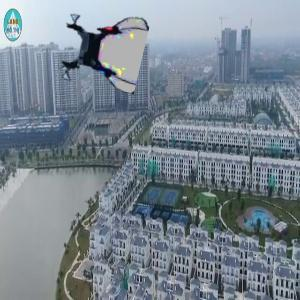drone: (59, 9, 144, 94)
